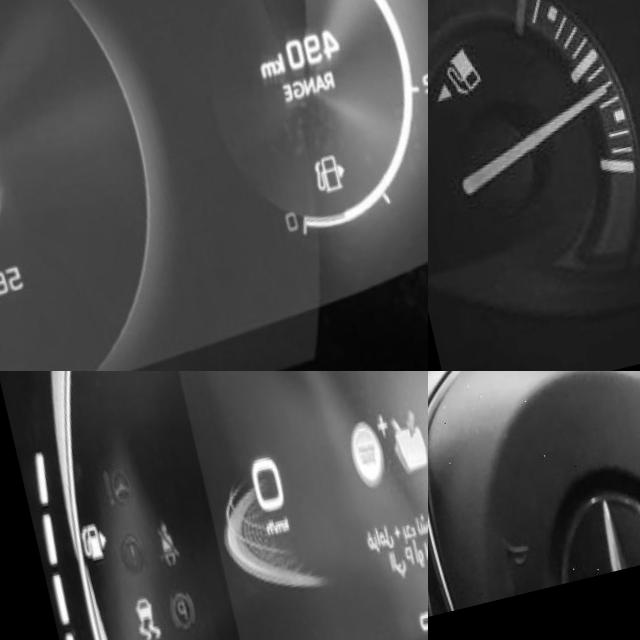Electronic Power Steering: (85, 467, 125, 519)
Seat Belt: (134, 520, 169, 581)
